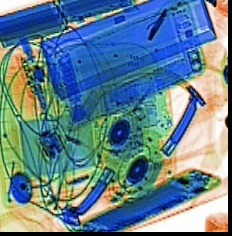powerbank: (1, 1, 133, 48)
